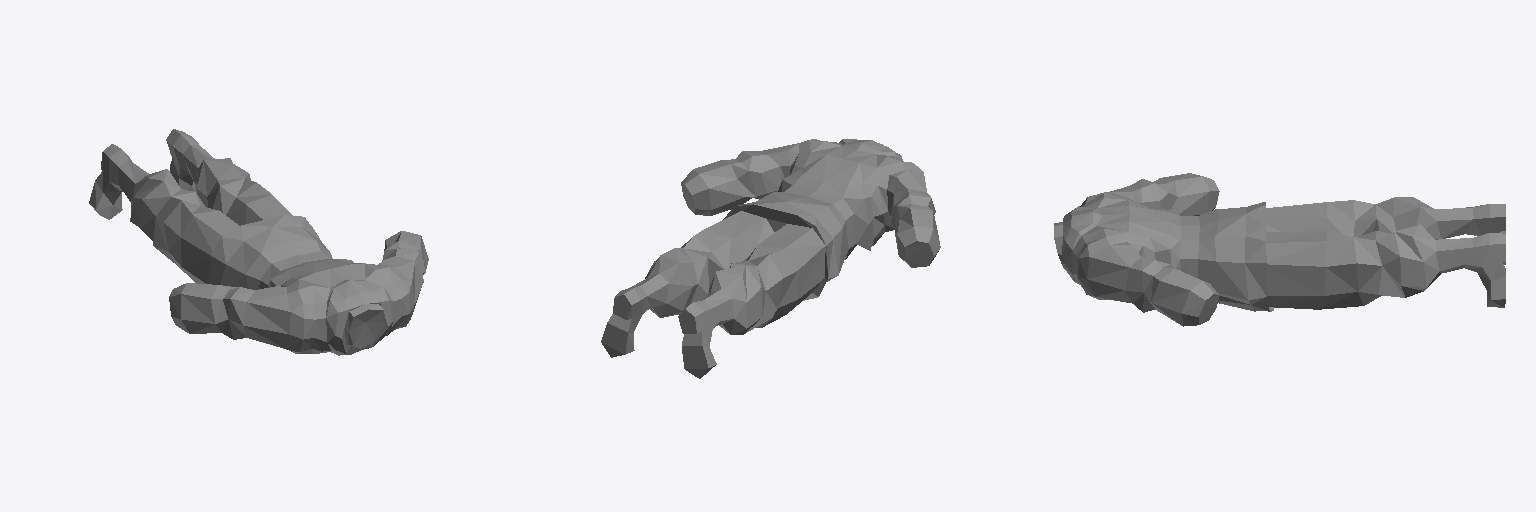
The model's file is asdasda.obj.
The picture shows the model from 3 angles: view 1: azimuth 30°, elevation 25°; view 2: azimuth 150°, elevation 25°; view 3: azimuth 270°, elevation 25°; orthographic projection.
Parts seen in each view (by area): view 1: AX_Sniper_Body01; view 2: AX_Sniper_Body01; view 3: AX_Sniper_Body01.
Boxes of the visible parts, x1,y1,x2,y2 form: AX_Sniper_Body01: [89, 129, 428, 355]; AX_Sniper_Body01: [601, 139, 940, 378]; AX_Sniper_Body01: [1054, 173, 1505, 326].
Bounding box in the file's own units: 1.11 × 0.375 × 1.74.